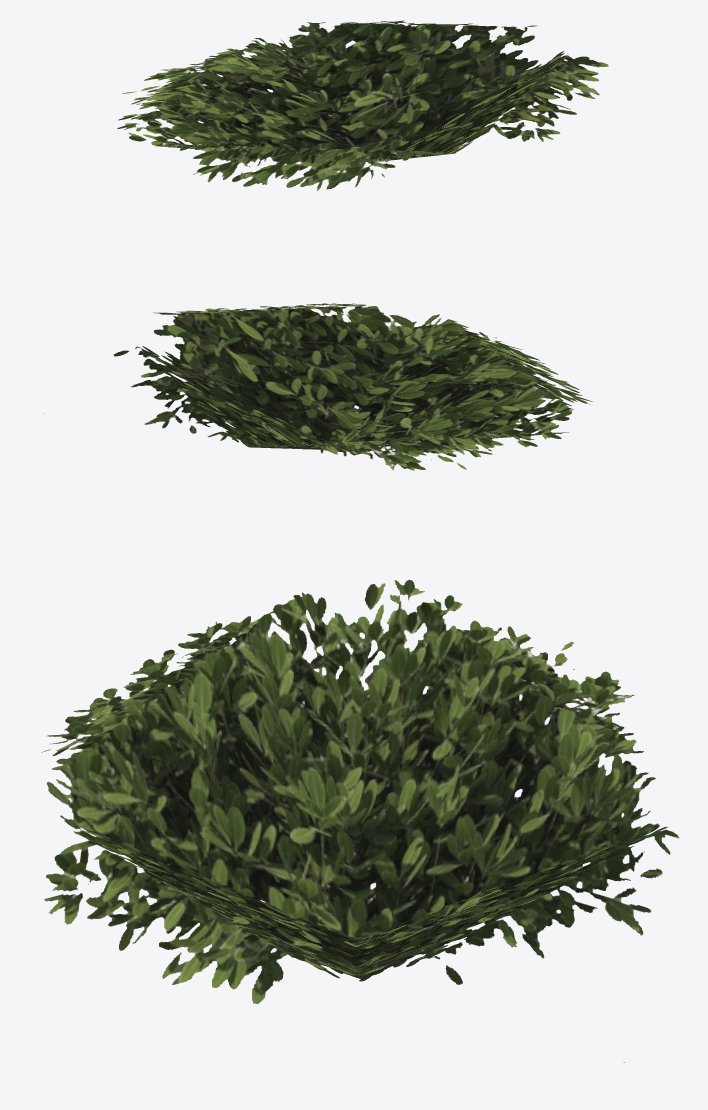
The model's file is plant09.fbx.
3 renders of one model, top to bottom at view 1: azimuth 30°, elevation 25°; view 2: azimuth 150°, elevation 25°; view 3: azimuth 270°, elevation 25°, orthographic. The views are drawn at different scales.
Parts seen in each view (by area): view 1: plant09; view 2: plant09; view 3: plant09.
Part boxes in pixels (x1,y1,x2,y2): plant09: [117, 17, 608, 190]; plant09: [43, 303, 592, 470]; plant09: [41, 579, 679, 1062].
Bounding box in the file's own units: 0.6834 × 0.1114 × 0.4514.
